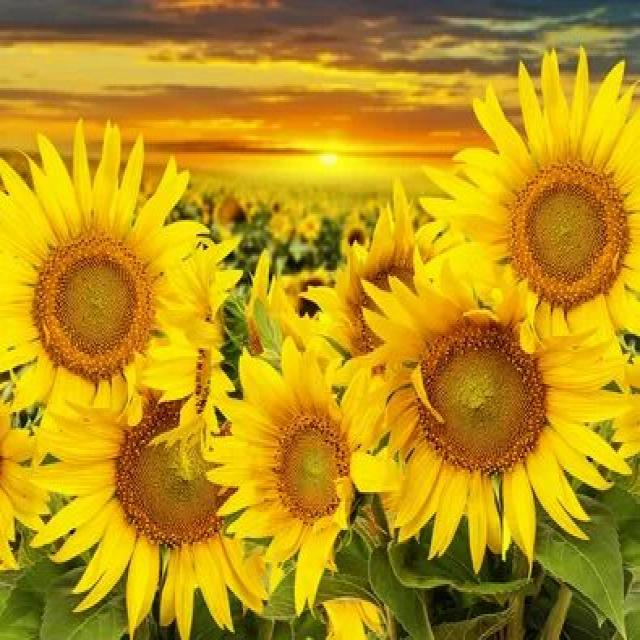sunflower: (340, 258, 627, 568), (2, 128, 220, 458), (50, 364, 293, 638), (434, 42, 640, 350), (211, 338, 361, 610)
